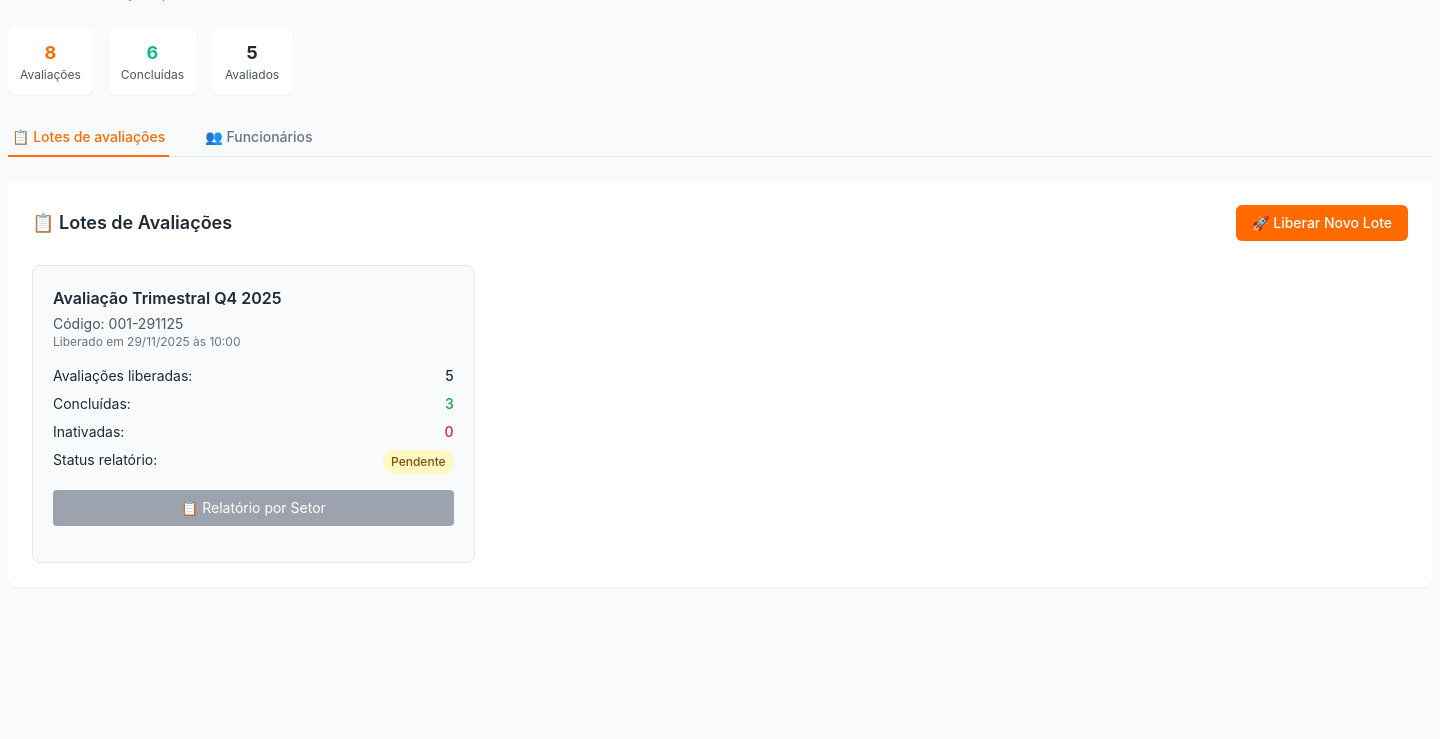
Scenario: RH Empresa Dashboard - Sistema de Lotes › Seção de Liberação de Lotes › deve abrir modal ao clicar em liberar lote
Click the button "🚀 Liberar Novo Lote" at (1322, 223), box [1236, 205, 1408, 241]
(page scrolled)
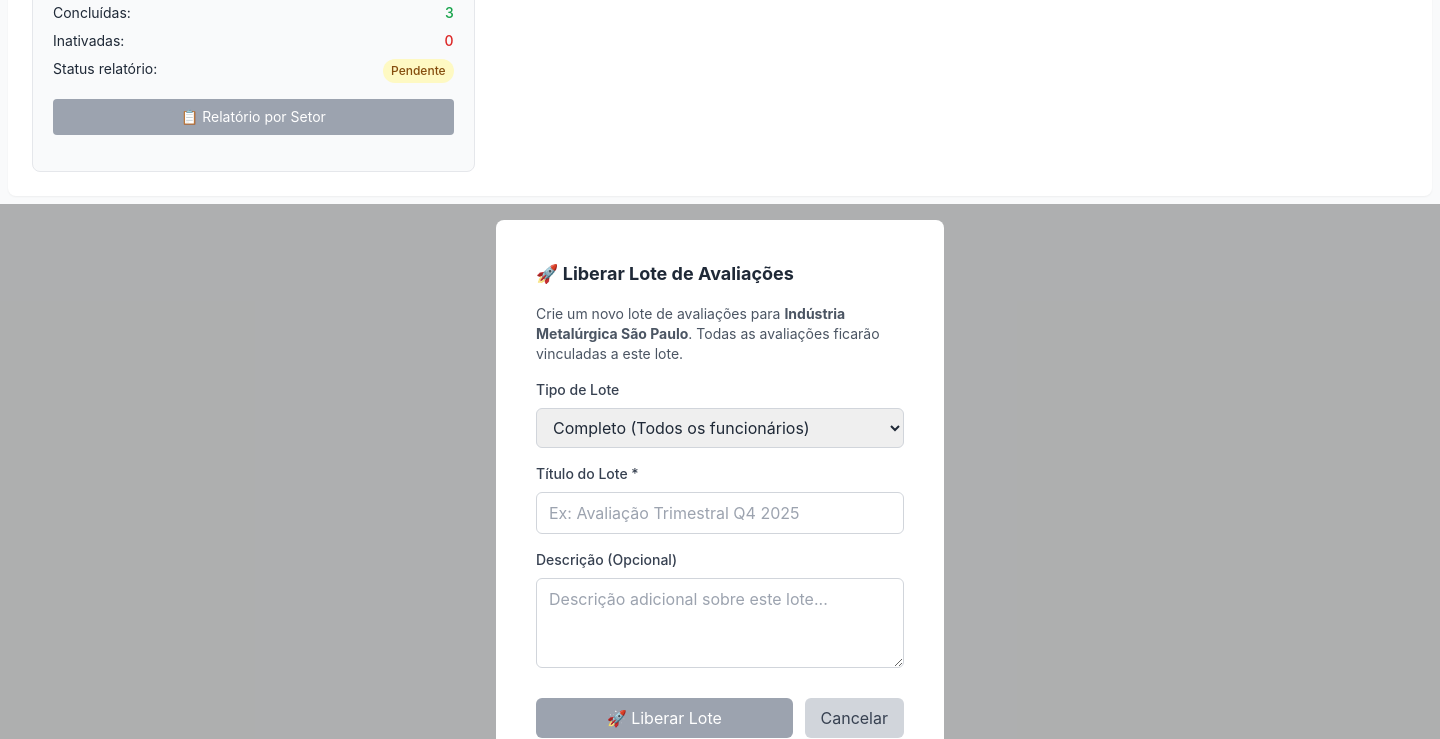
Now the heading "🚀 Liberar Lote de Avaliações" is shown, box [536, 263, 794, 284]
Now the text "Crie um novo lote de avaliações para" is shown, box [536, 305, 784, 322]
